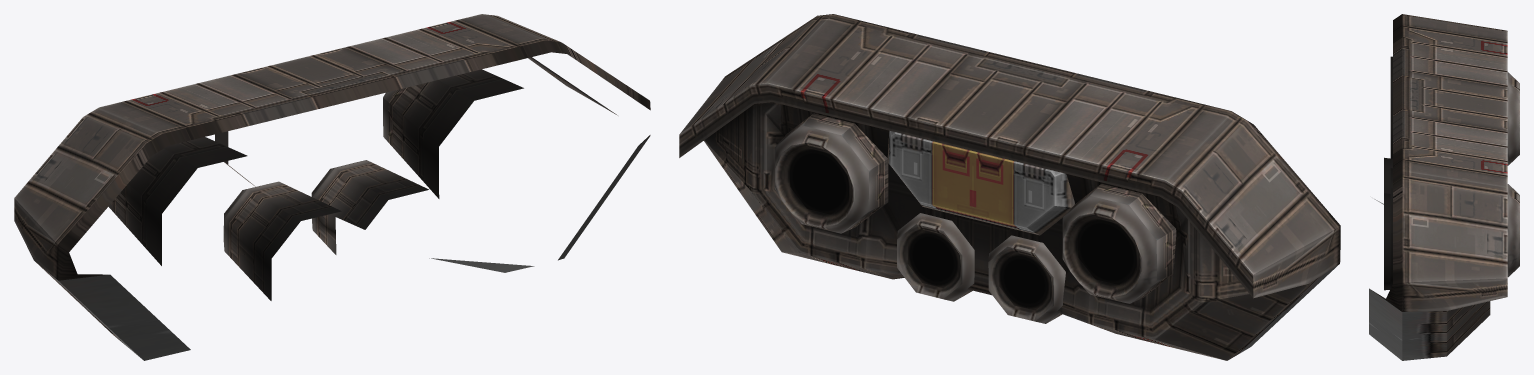
File: hgn_flagship_carrier_02_ion_engine_m.glb
3 renders of one model, left to right at view 1: azimuth 30°, elevation 25°; view 2: azimuth 150°, elevation 25°; view 3: azimuth 270°, elevation 25°, orthographic. The views are drawn at different scales.
Visible parts, largest first — view 1: carrier_01_engine_m; view 2: carrier_01_engine_m; view 3: carrier_01_engine_m.
Boxes of the visible parts, <box> form: carrier_01_engine_m: <box>14,14,650,360</box>; carrier_01_engine_m: <box>679,14,1340,360</box>; carrier_01_engine_m: <box>1369,14,1519,360</box>.
Size of the model in its own units: 2.42 by 0.8698 by 0.6479.
Materials: 1 (1 with a texture image).
